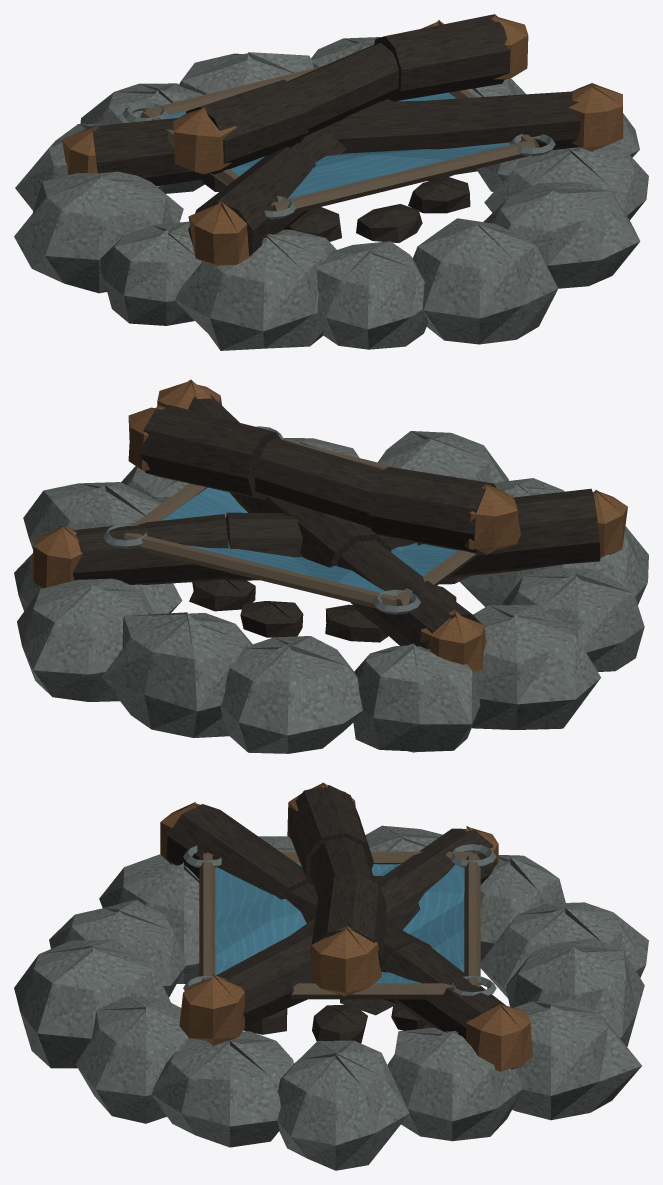
The model's file is cs-010_campfire_nearly_out_wet.obj.
The picture shows the model from 3 angles, top to bottom: view 1: azimuth 30°, elevation 25°; view 2: azimuth 150°, elevation 25°; view 3: azimuth 270°, elevation 25°; orthographic projection. The views are drawn at different scales.
Parts seen in each view (by area): view 1: cs-010_campfire_nearly_out_wet; view 2: cs-010_campfire_nearly_out_wet; view 3: cs-010_campfire_nearly_out_wet.
Boxes of the visible parts, box(x1,y1,x2,y2) form: cs-010_campfire_nearly_out_wet: box(14, 14, 648, 350); cs-010_campfire_nearly_out_wet: box(14, 379, 648, 753); cs-010_campfire_nearly_out_wet: box(14, 782, 648, 1170).
Bounding box in the file's own units: 1.2 × 0.4064 × 1.1.
6 materials, 6 textured.
